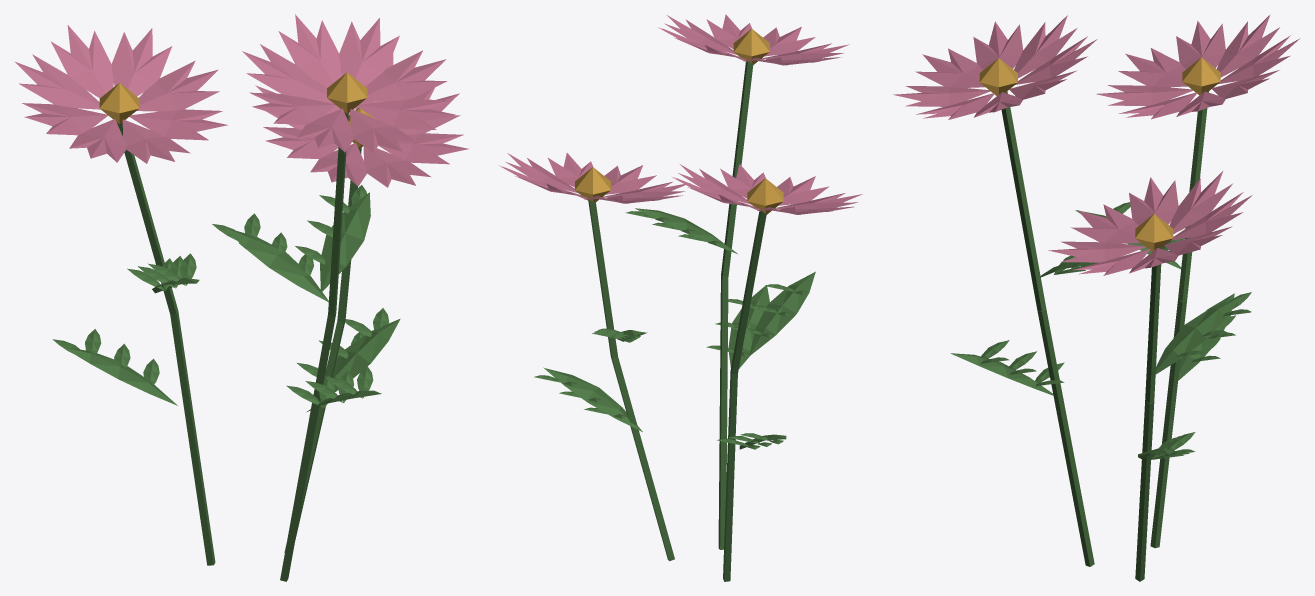
Rendered from flower_autumn_c.glb.
The picture shows the model from 3 angles, left to right: view 1: azimuth 30°, elevation 25°; view 2: azimuth 150°, elevation 25°; view 3: azimuth 270°, elevation 25°; orthographic projection. The views are drawn at different scales.
Visible parts, largest first — view 1: plant; view 2: plant; view 3: plant.
Part boxes in pixels (<box>): plant: <box>14,14,468,581</box>; plant: <box>499,14,862,581</box>; plant: <box>893,14,1300,581</box>.
Size of the model in its own units: 0.3076 by 0.4 by 0.2773.
